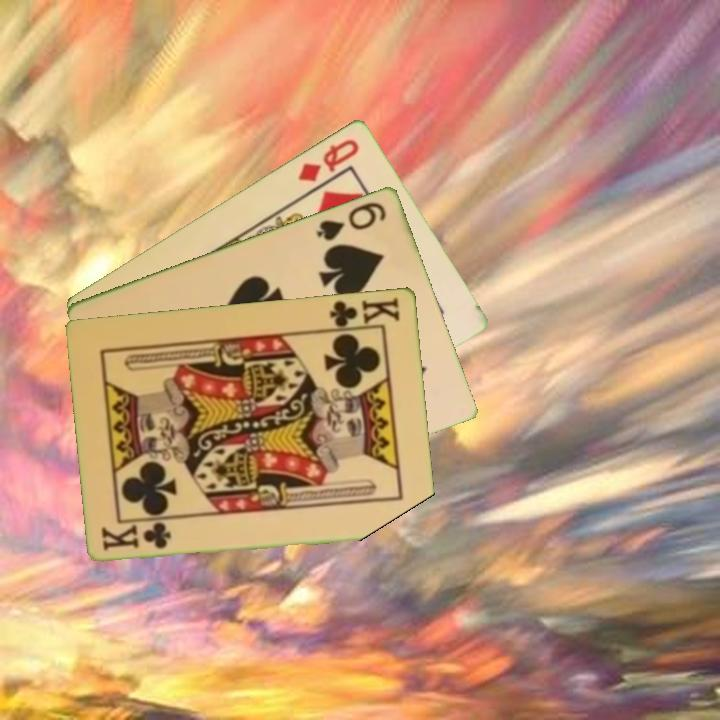6s: (313, 198, 390, 243)
Kc: (324, 294, 403, 333), (98, 520, 175, 553)
Qd: (294, 135, 363, 184)
